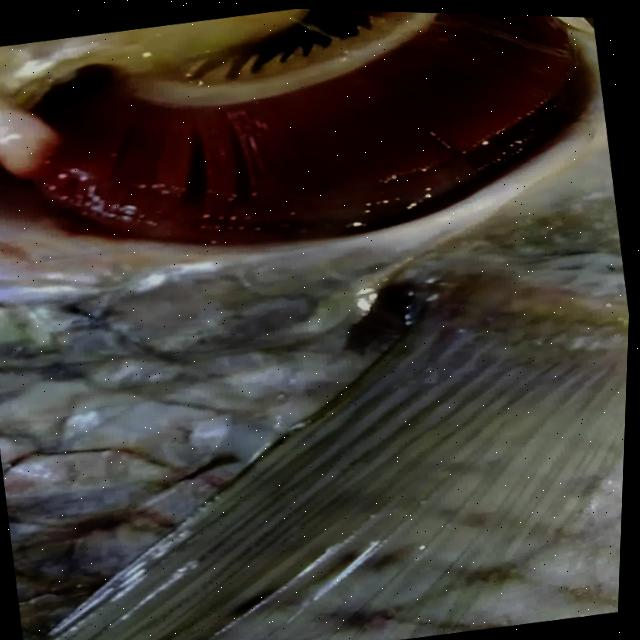Fresh: (0, 0, 599, 294)
